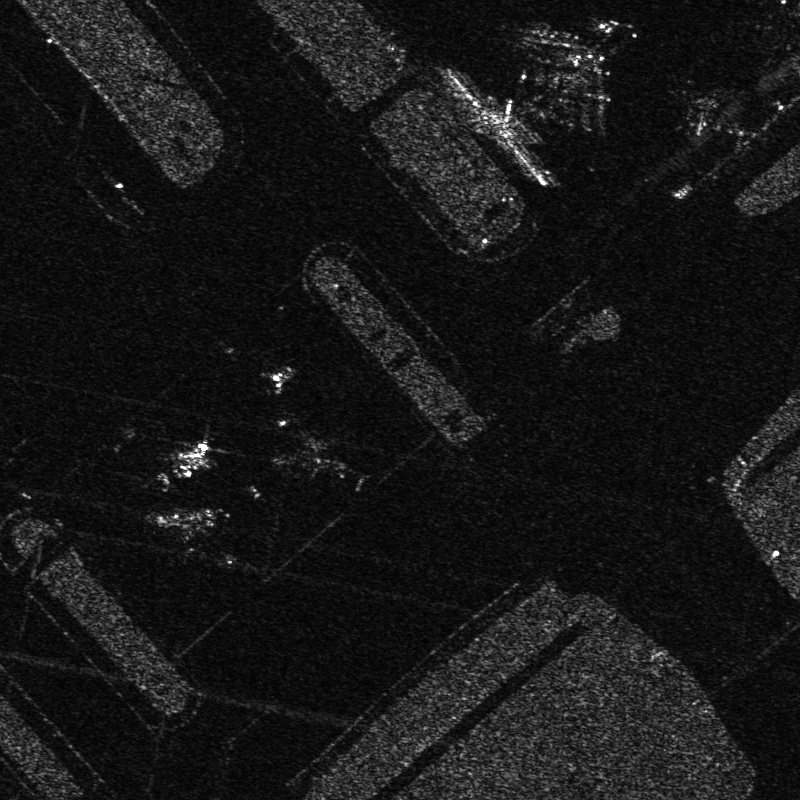Boeing737: (268, 413, 354, 484)
other: (505, 17, 645, 130)
